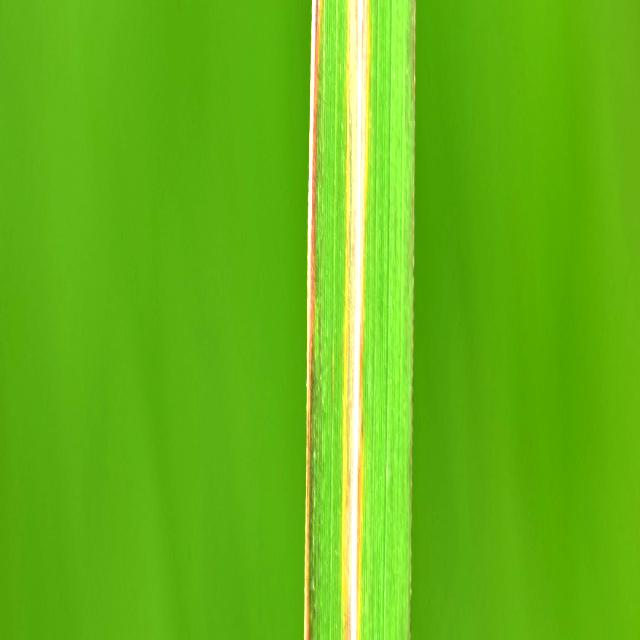BLB: (341, 1, 370, 640), (304, 1, 323, 640)
